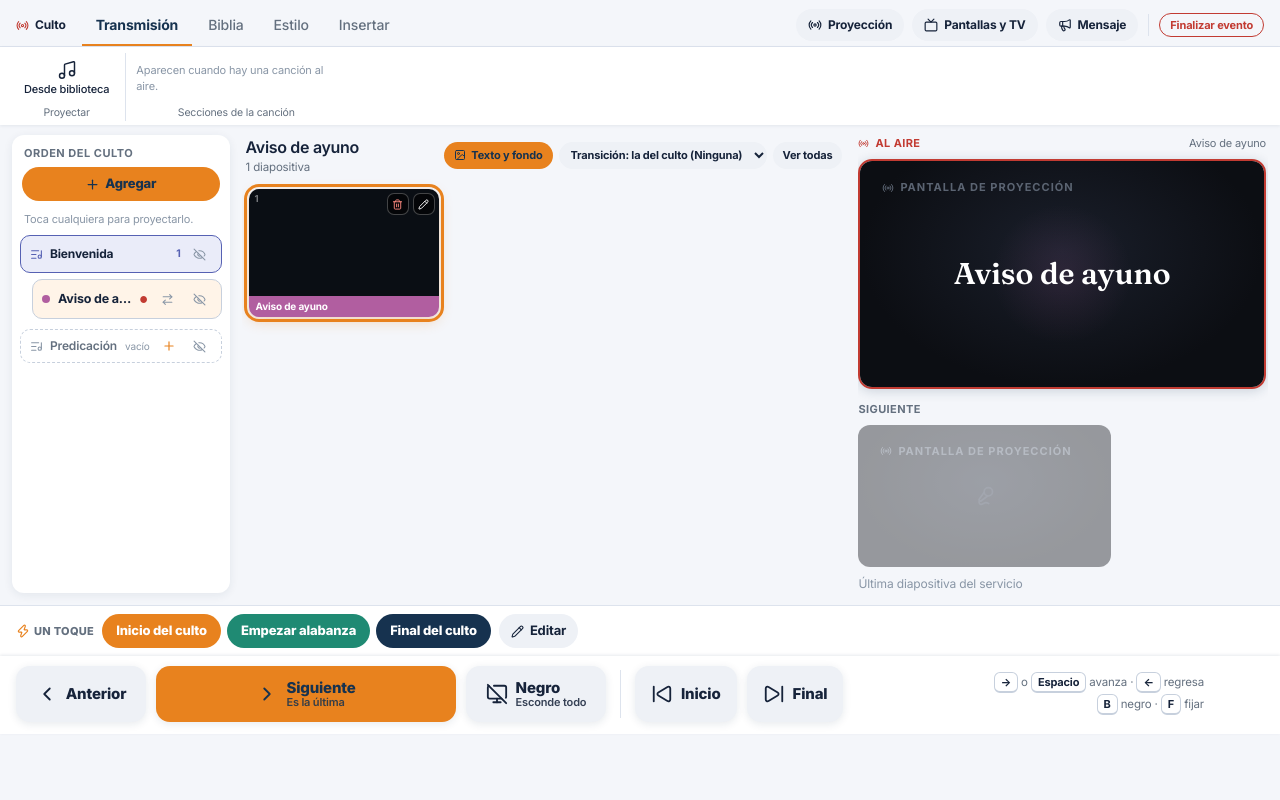
Test case: Orden del culto en la consola › 'Mover a otra parte del culto' lleva el elemento a una parte vacía
Later steps or results of the test are not shown.
Click the button named "Mover a otra parte del culto" at (168, 299), box [156,287,180,311]
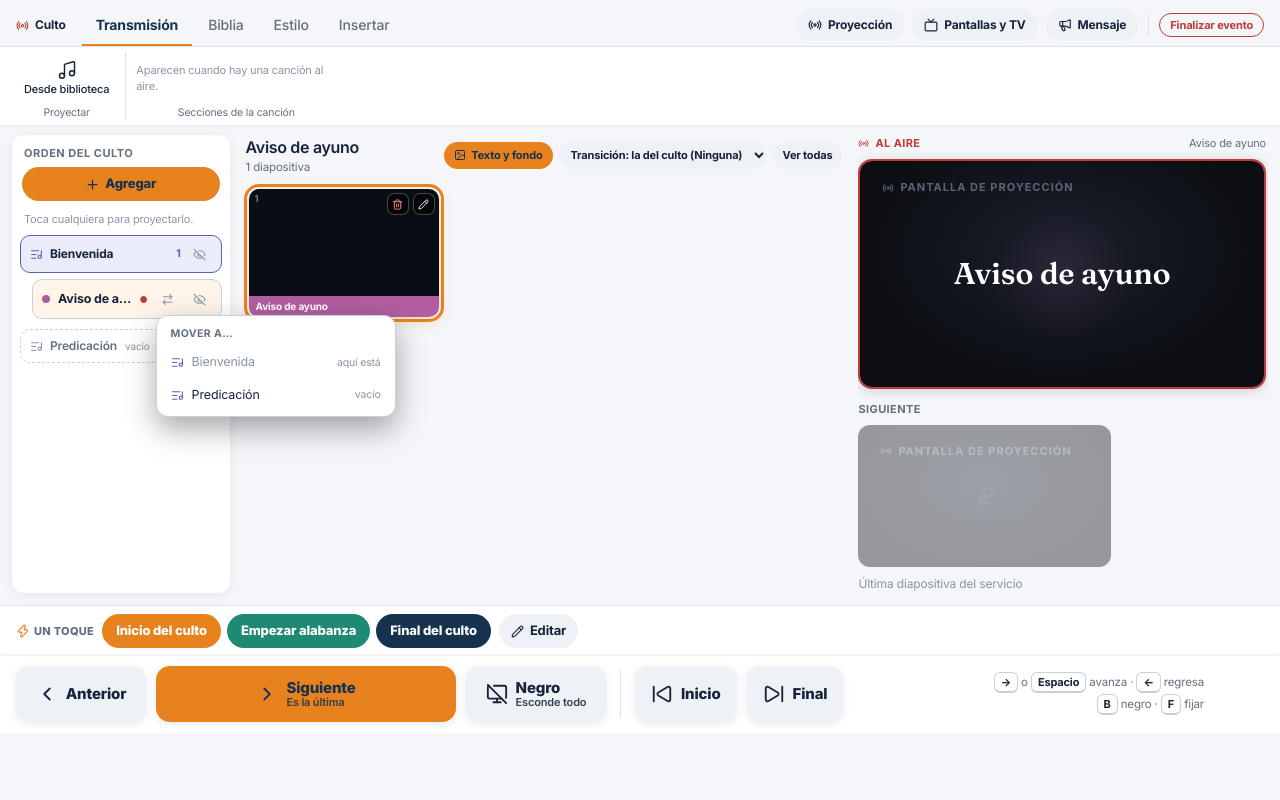
Expected: the menu item "Bienvenida aquí está" is disabled, [161,346,391,379]
